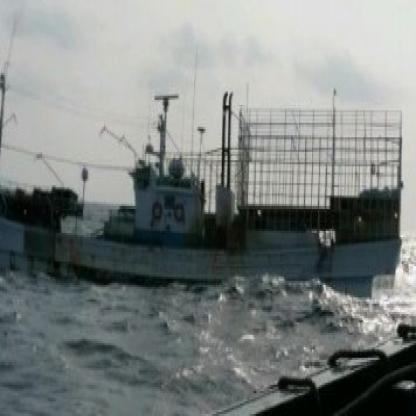fish-b: (0, 81, 413, 311)
